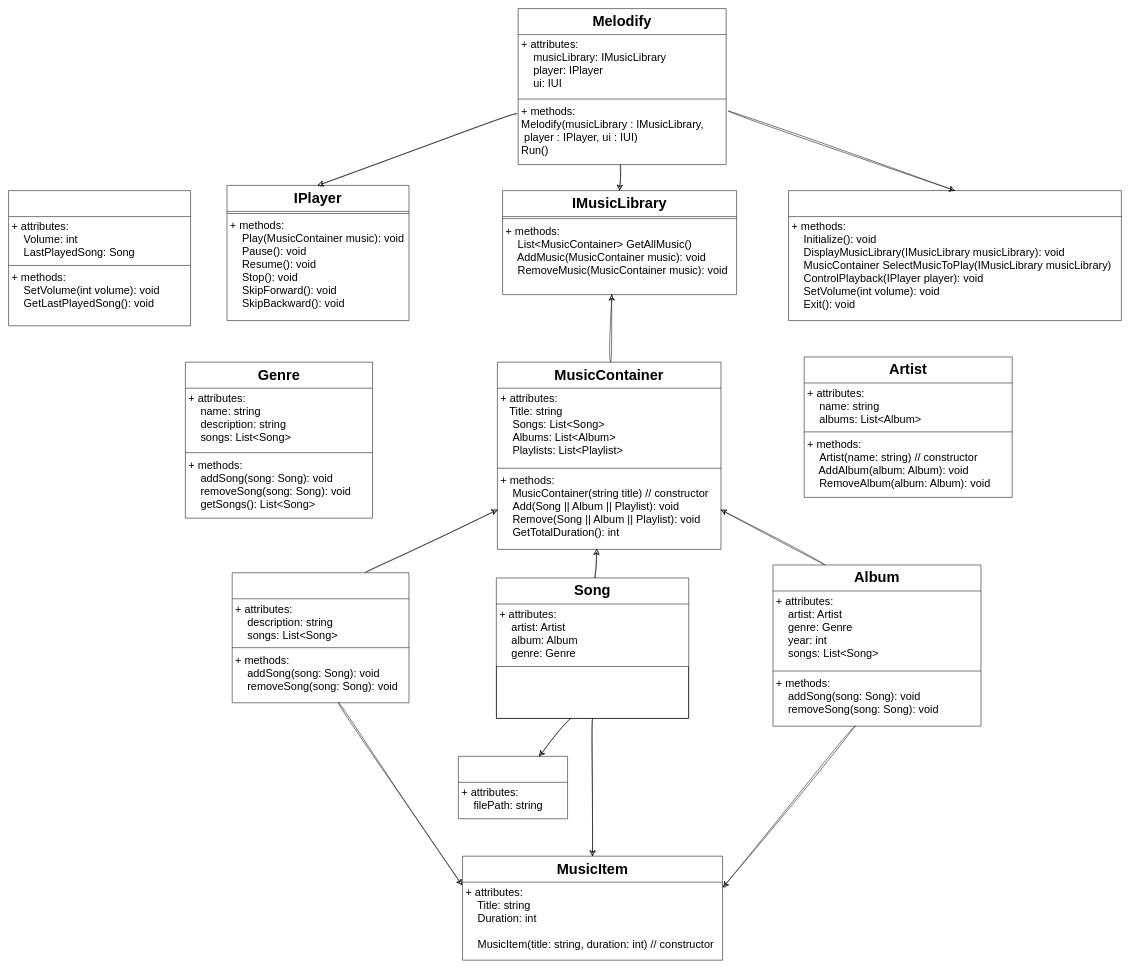
This 1130x969 diagram has some shape labels left out. The box of each missing label's shape, as (x1, y1, x2, y2) in pixels:
+ methods: Song(title: string... ): base(title, duration) // constructor: (496, 666, 689, 718)
AudioFile: (458, 756, 568, 819)
ISettings: (8, 190, 191, 326)
IUI: (788, 190, 1121, 321)
Playlist: (232, 572, 409, 703)
